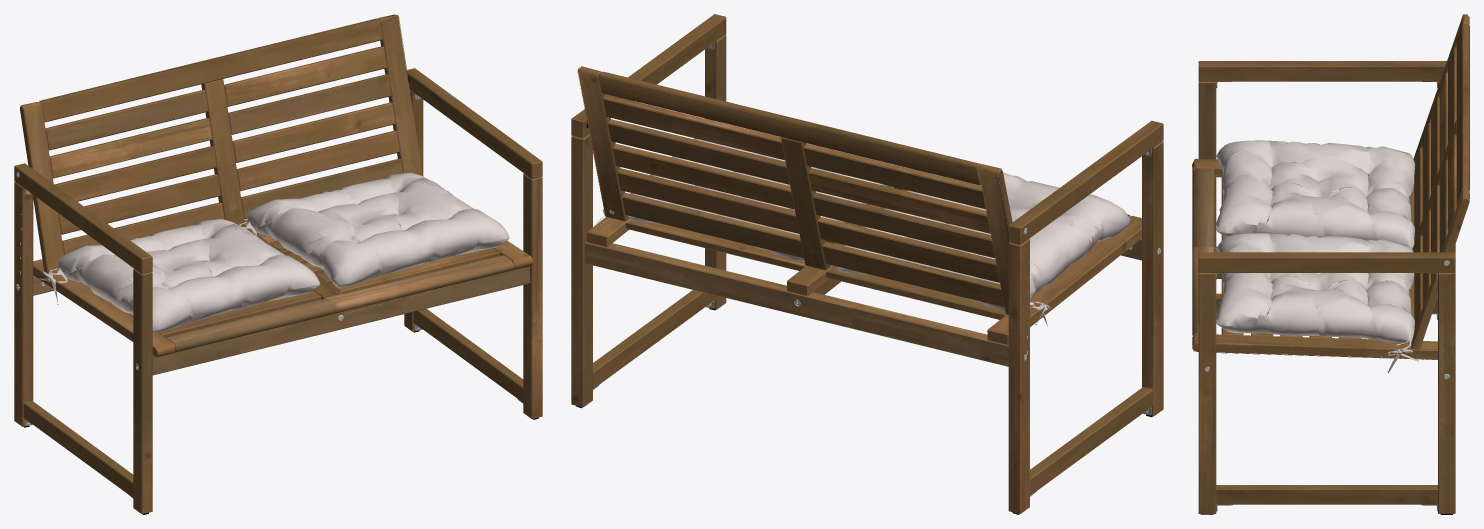
The picture shows the model from 3 angles, left to right: view 1: azimuth 30°, elevation 25°; view 2: azimuth 150°, elevation 25°; view 3: azimuth 270°, elevation 25°; orthographic projection. The views are drawn at different scales.
Visible parts, largest first — view 1: nammaro-bench, kuddarna-chair-44.001, kuddarna-chair-44; view 2: nammaro-bench, kuddarna-chair-44, kuddarna-chair-44.001; view 3: nammaro-bench, kuddarna-chair-44, kuddarna-chair-44.001.
Boxes of the visible parts, <box> form: nammaro-bench: <box>14,14,542,514</box>; kuddarna-chair-44.001: <box>236,172,509,287</box>; kuddarna-chair-44: <box>38,219,320,333</box>; nammaro-bench: <box>571,14,1163,514</box>; kuddarna-chair-44: <box>836,172,1131,326</box>; kuddarna-chair-44.001: <box>596,120,918,260</box>; nammaro-bench: <box>1192,14,1469,514</box>; kuddarna-chair-44: <box>1216,140,1415,248</box>; kuddarna-chair-44.001: <box>1216,233,1418,373</box>.
Bounding box in the file's own units: 1.06 × 0.7846 × 0.6326.
Materials: 3 (3 with a texture image).
